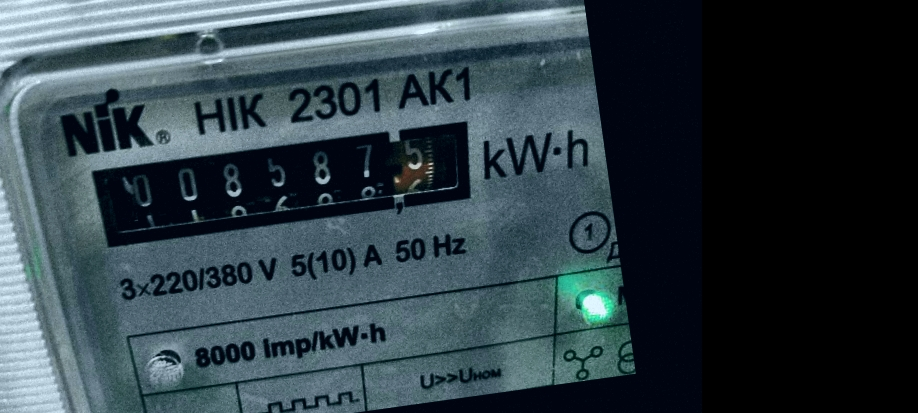0: (172, 161, 201, 204)
1: (126, 168, 156, 211)
5: (399, 131, 428, 174), (262, 150, 290, 191)
7: (351, 139, 379, 182)
8: (216, 157, 246, 201), (307, 145, 333, 188)
screen: (69, 96, 499, 271)
